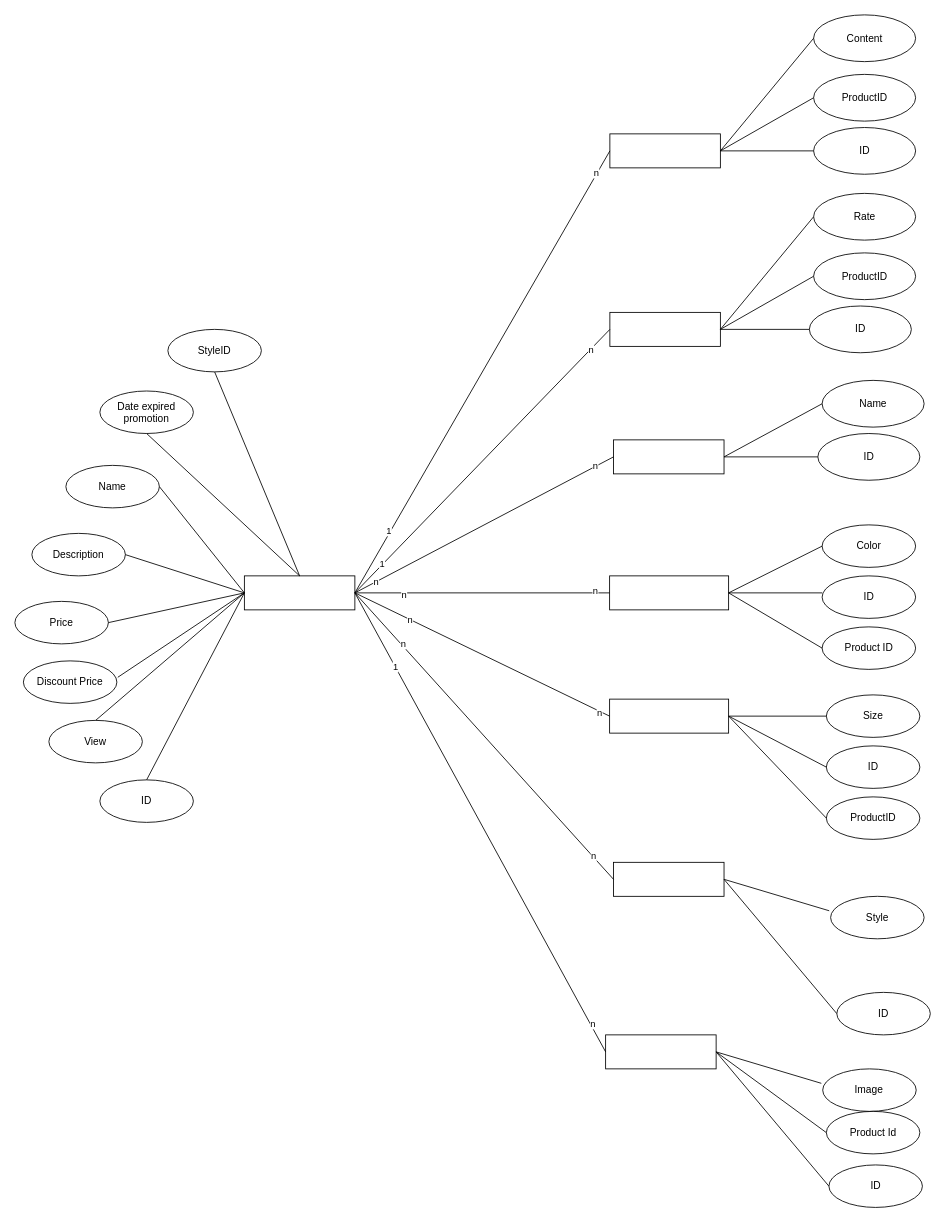
The diagram is 945 pixels wide and 1222 high, and some of its shapes have lost their labels. The centre of each missing label's shape, as x and y in pixels:
Categories: the point at 668,456
ColorProduct: the point at 669,592
ImageProduct: the point at 660,1051
Product: the point at 299,592
RateProduct: the point at 664,329
ReviewProduct: the point at 664,150
SizeProduct: the point at 669,715
StyleProduct: the point at 668,878
